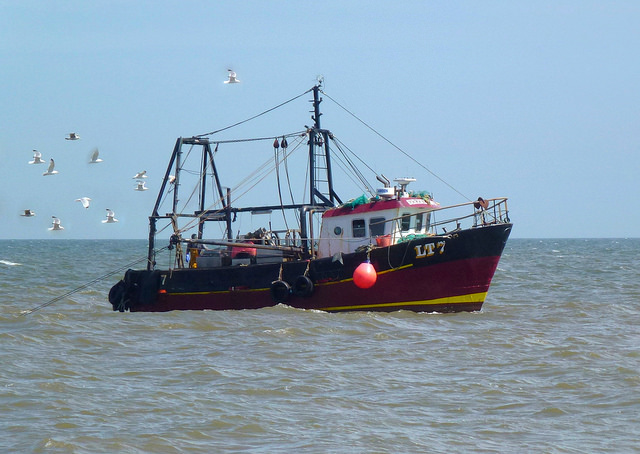fishing_boat: (107, 77, 514, 317)
